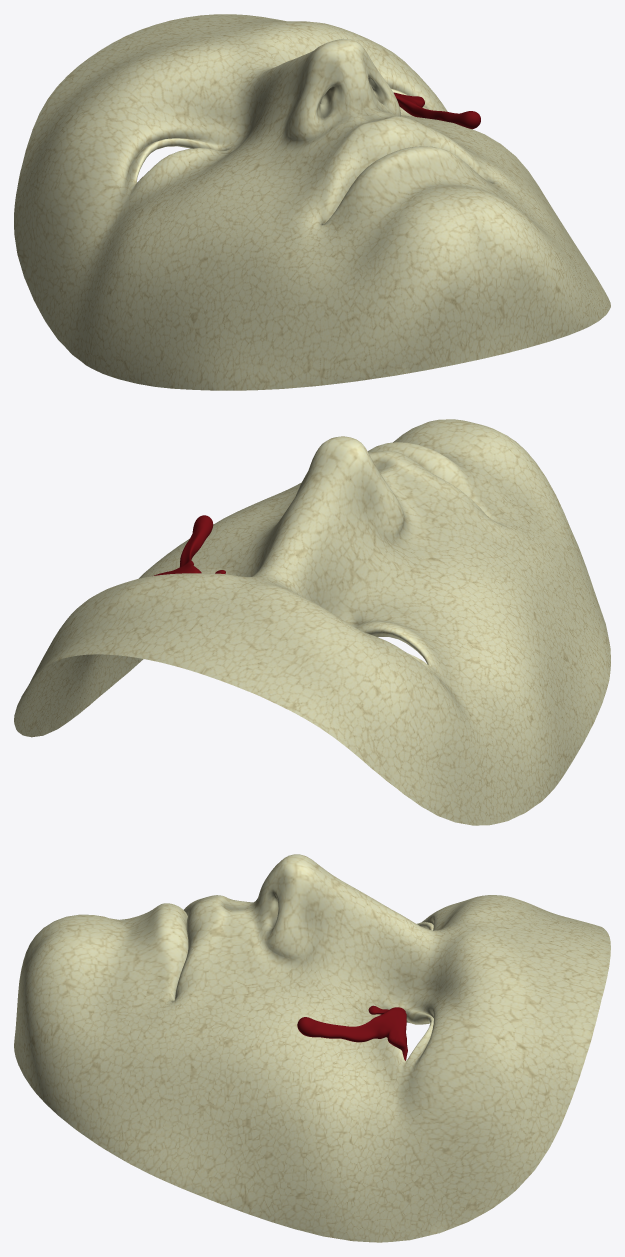
The picture shows the model from 3 angles, top to bottom: view 1: azimuth 30°, elevation 25°; view 2: azimuth 150°, elevation 25°; view 3: azimuth 270°, elevation 25°; orthographic projection. The views are drawn at different scales.
Visible parts, largest first — view 1: blMilMan_m4b_68498-sk, Mball.007; view 2: blMilMan_m4b_68498-sk, Mball.007; view 3: blMilMan_m4b_68498-sk, Mball.007.
Boxes of the visible parts, x1,y1,x2,y2 form: blMilMan_m4b_68498-sk: [14, 14, 610, 390]; Mball.007: [394, 92, 480, 129]; blMilMan_m4b_68498-sk: [14, 419, 610, 825]; Mball.007: [154, 515, 225, 575]; blMilMan_m4b_68498-sk: [14, 854, 610, 1242]; Mball.007: [297, 1005, 407, 1060].
Bounding box in the file's own units: 14.6 × 9.32 × 17.94.
2 materials, 1 textured.
